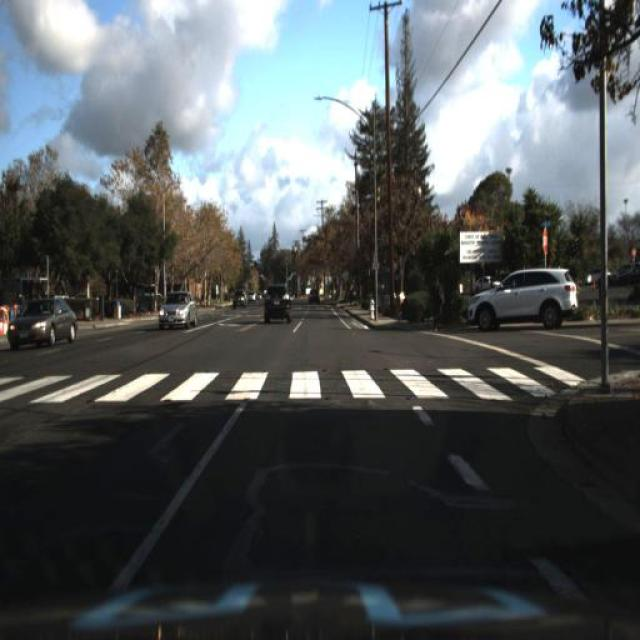car: (467, 266, 578, 338), (12, 296, 78, 350), (258, 268, 298, 332), (159, 284, 200, 336), (256, 282, 289, 328), (229, 286, 250, 314), (306, 282, 323, 308), (231, 291, 244, 311)
trafficLight: (428, 268, 447, 332), (430, 272, 444, 336)
